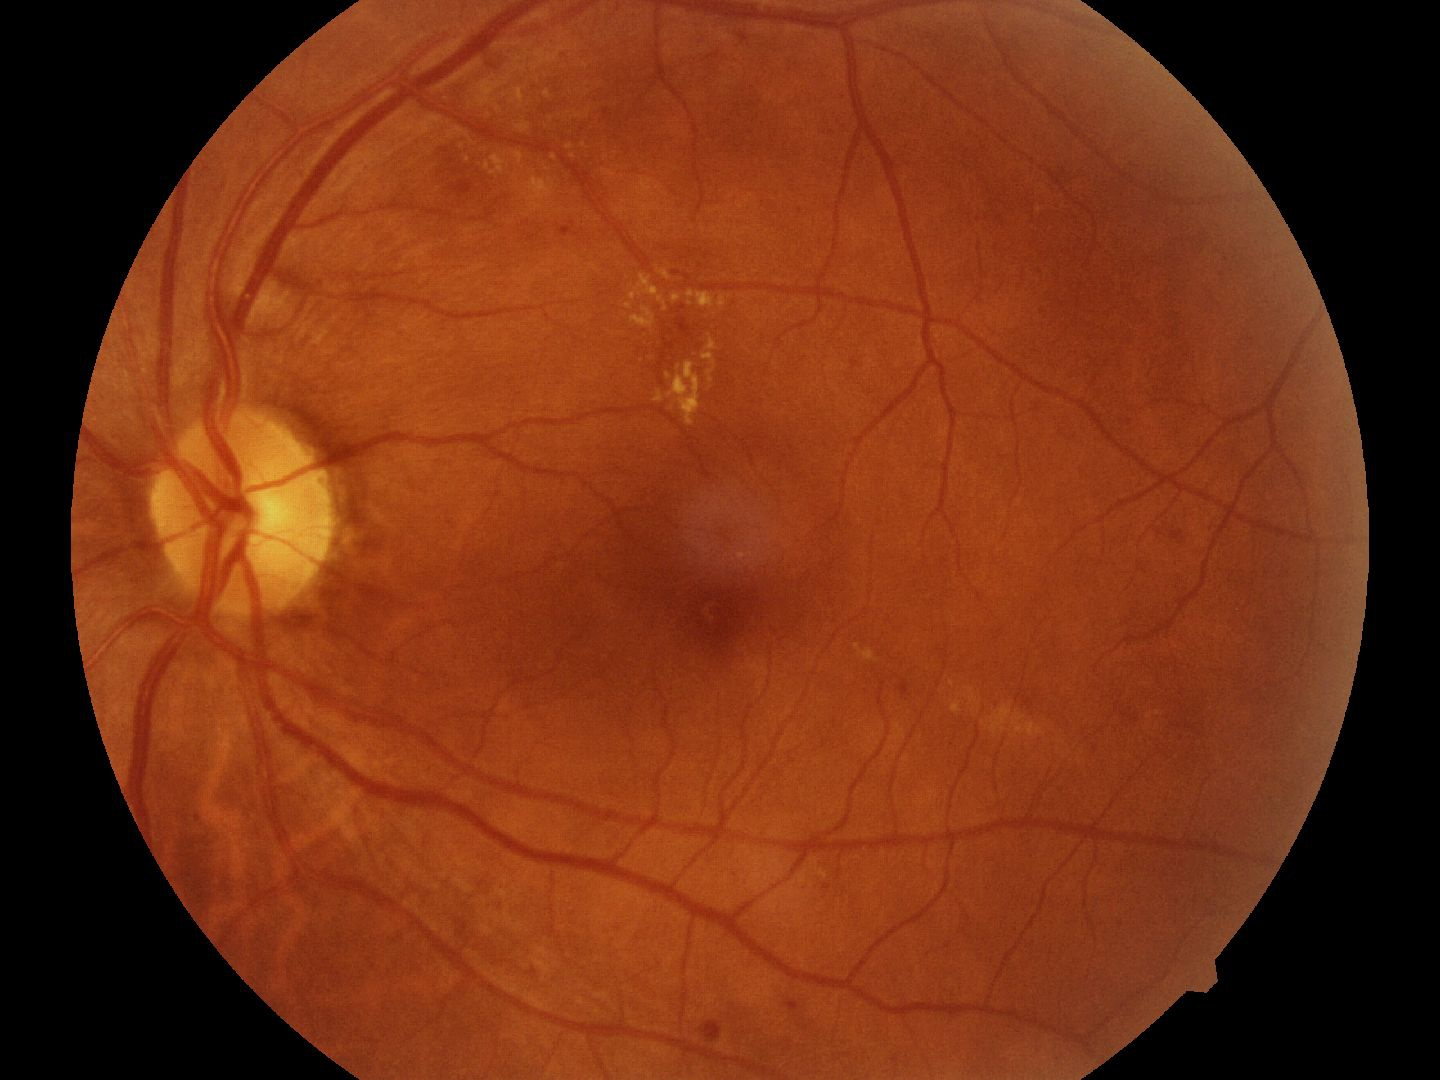Exudates: (613, 263, 745, 427)
Hemorrhages: (587, 511, 803, 675)
Optic-Disc: (134, 388, 339, 621)
Venules: (389, 761, 680, 864), (164, 160, 260, 361)
